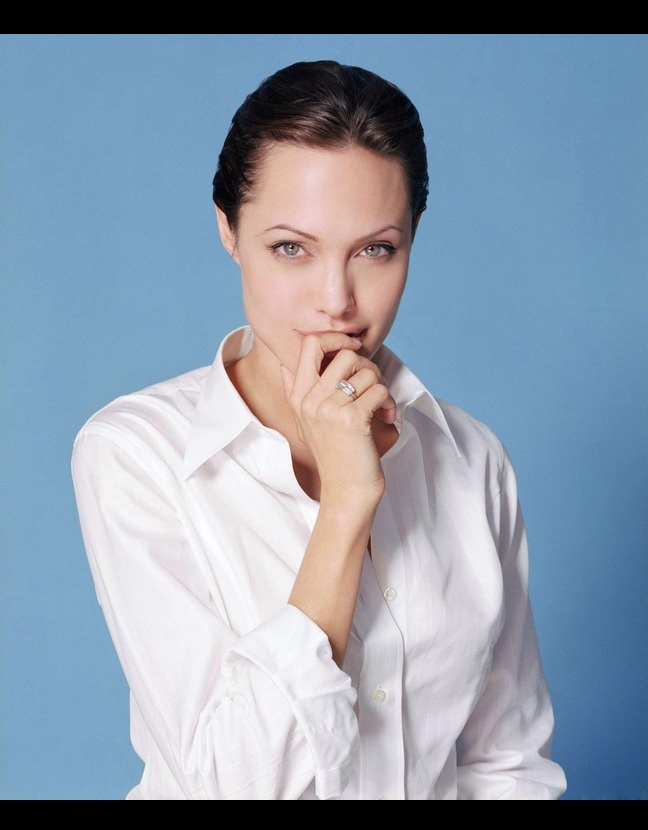face: (240, 138, 408, 390)
